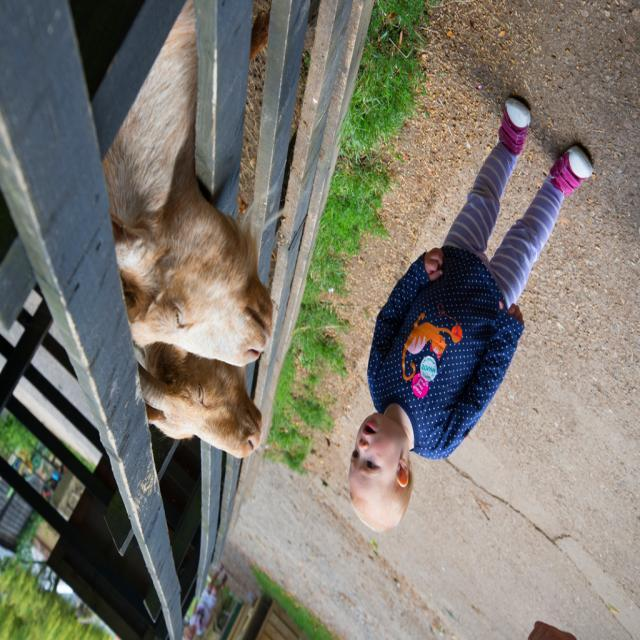Goat: (102, 2, 280, 460)
